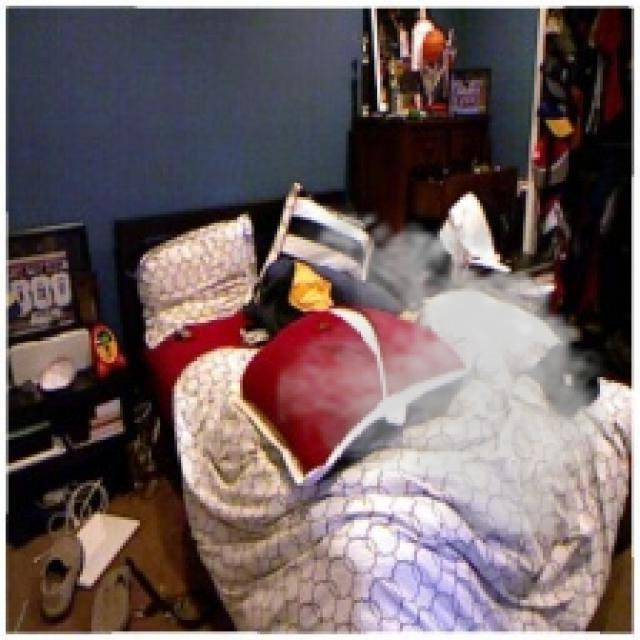Smoke: (274, 200, 629, 549)
